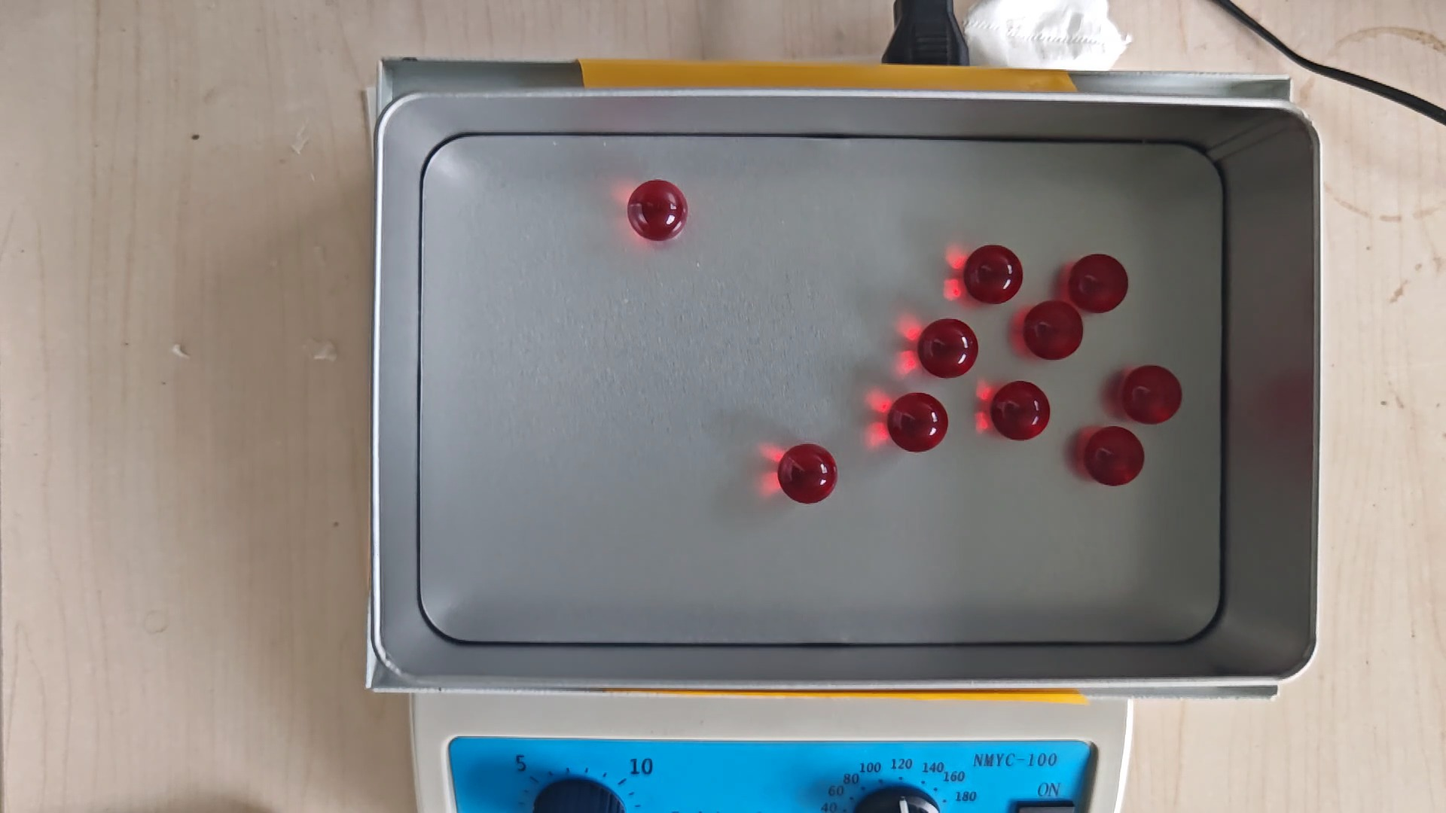ball: (627, 179, 688, 242), (1084, 426, 1145, 488), (778, 443, 839, 505), (887, 392, 948, 453), (1122, 364, 1183, 425), (918, 317, 977, 379), (991, 380, 1050, 441), (964, 244, 1023, 305), (1070, 253, 1129, 313), (1025, 300, 1083, 361)
container: (418, 136, 1223, 644)
